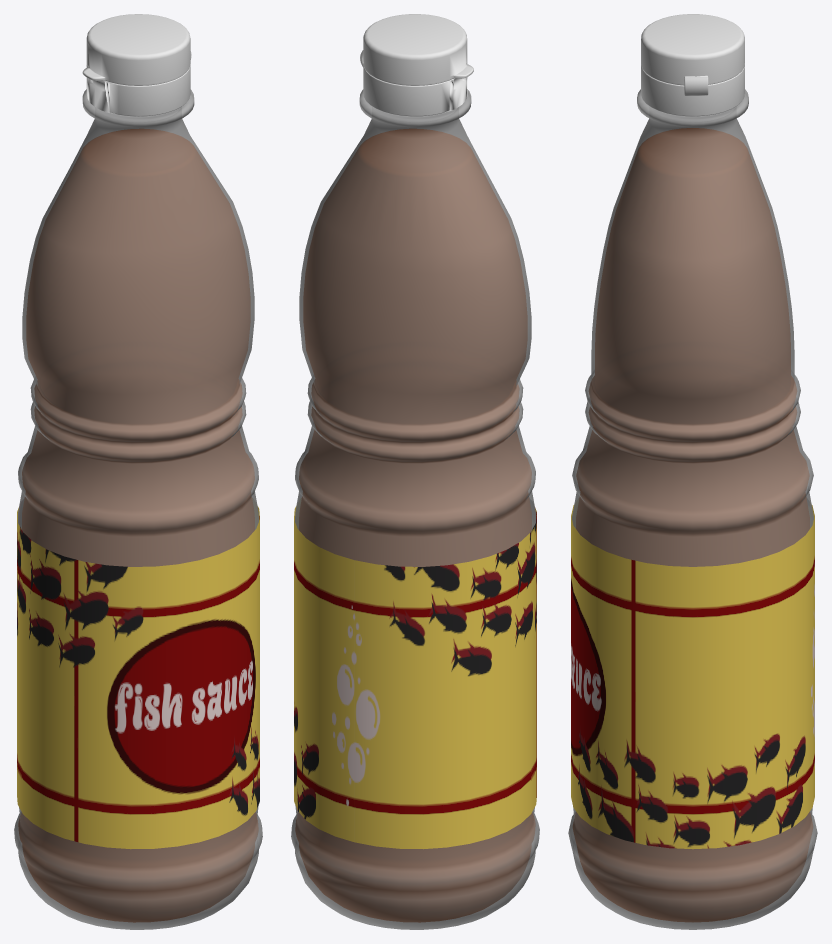
Rendered from fish sauce.fbx.
3 renders of one model, left to right at view 1: azimuth 30°, elevation 25°; view 2: azimuth 150°, elevation 25°; view 3: azimuth 270°, elevation 25°, orthographic.
Parts seen in each view (by area): view 1: Cylinder, Cylinder.001, Cylinder.004, Cylinder.002; view 2: Cylinder, Cylinder.001, Cylinder.004, Cylinder.002; view 3: Cylinder, Cylinder.001, Cylinder.004, Cylinder.002.
Part boxes in pixels (bbox=[...]): Cylinder: bbox=[14, 89, 262, 929]; Cylinder.001: bbox=[18, 129, 258, 922]; Cylinder.004: bbox=[17, 506, 259, 849]; Cylinder.002: bbox=[82, 14, 191, 116]; Cylinder: bbox=[291, 89, 539, 929]; Cylinder.001: bbox=[295, 129, 535, 922]; Cylinder.004: bbox=[294, 506, 536, 849]; Cylinder.002: bbox=[360, 14, 473, 116]; Cylinder: bbox=[568, 89, 817, 929]; Cylinder.001: bbox=[573, 128, 812, 921]; Cylinder.004: bbox=[571, 504, 814, 849]; Cylinder.002: bbox=[641, 14, 744, 116].
Size of the model in its own units: 4.44 by 16.94 by 4.44.
